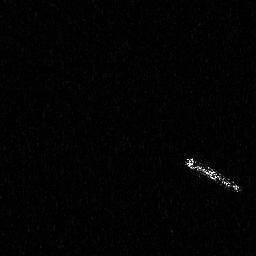ship: (182, 154, 243, 194)
